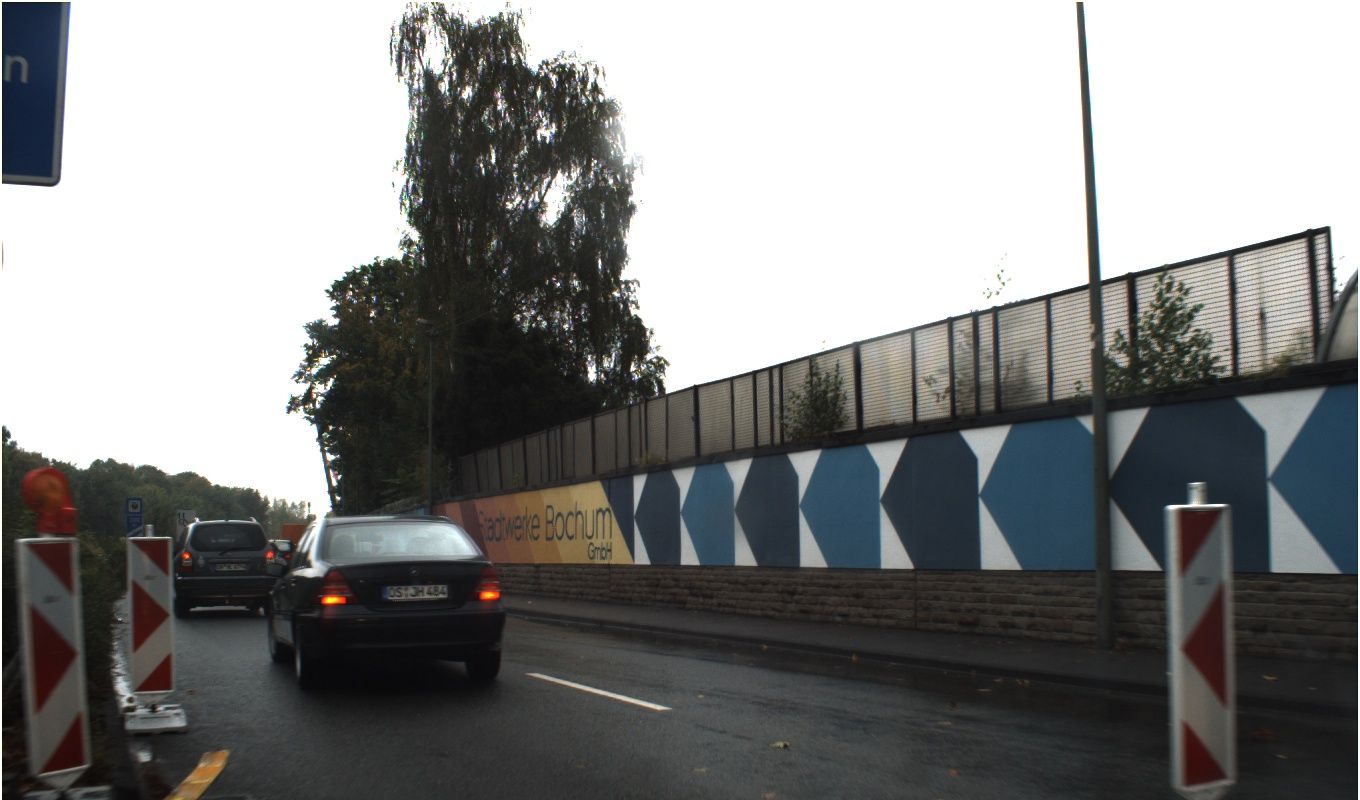car: (294, 523, 529, 702), (165, 508, 281, 642), (264, 520, 314, 612)
